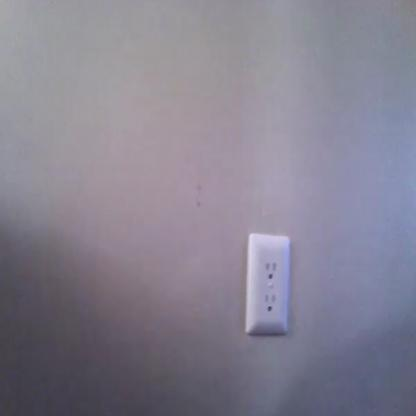OUTLET: (248, 233, 288, 334)
